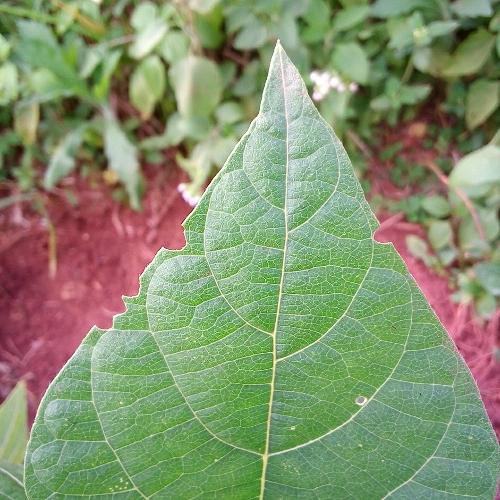hawar: (59, 208, 222, 383), (342, 178, 411, 304)
